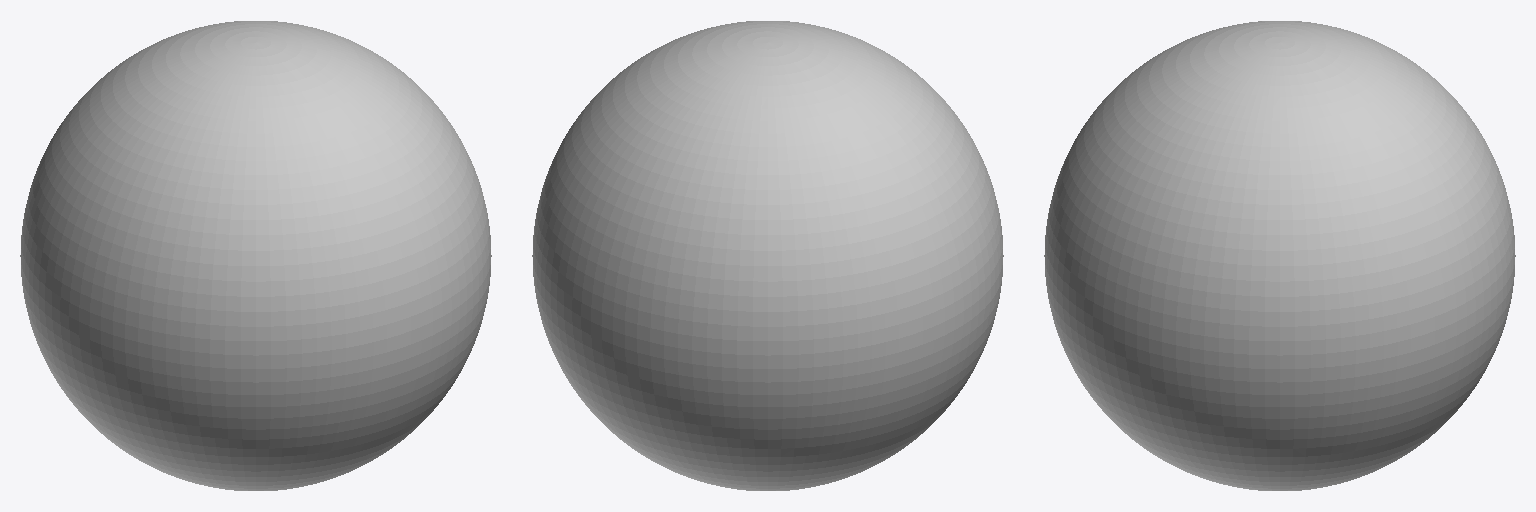
The model's file is planet.obj.
3 views of the same model, side by side, from view 1: azimuth 30°, elevation 25°; view 2: azimuth 150°, elevation 25°; view 3: azimuth 270°, elevation 25° (orthographic).
Visible parts, largest first — view 1: Sphere_Sphere.003; view 2: Sphere_Sphere.003; view 3: Sphere_Sphere.003.
Boxes of the visible parts, <box> form: Sphere_Sphere.003: <box>20,21,491,490</box>; Sphere_Sphere.003: <box>532,21,1003,490</box>; Sphere_Sphere.003: <box>1044,21,1515,490</box>.
Bounding box in the file's own units: 2 × 2 × 2.